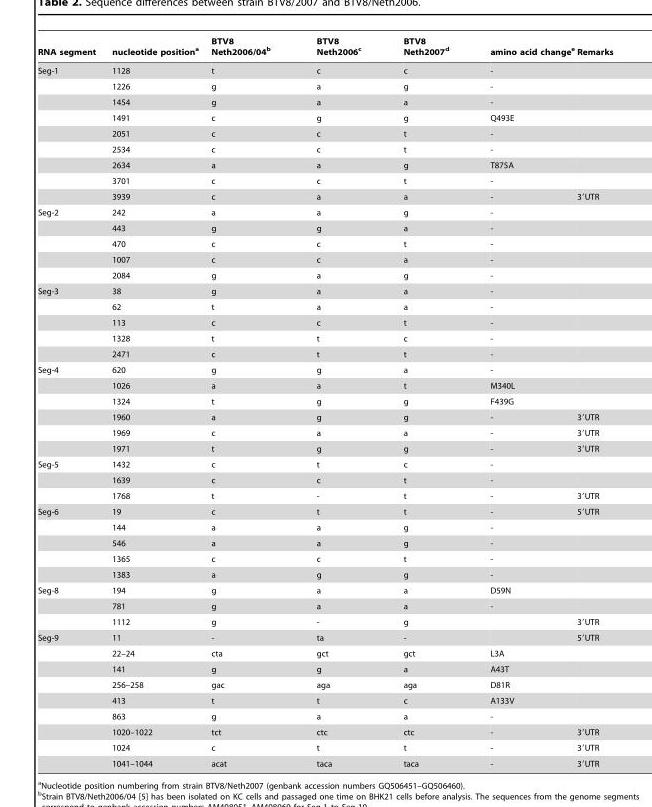table: (36, 36, 612, 767)
table column: (468, 36, 575, 767), (103, 36, 204, 767), (292, 36, 381, 767), (204, 36, 292, 767), (381, 36, 468, 767), (36, 36, 103, 767), (575, 36, 612, 767)
table column header: (36, 36, 612, 61)
table row: (36, 36, 612, 61), (36, 61, 612, 78), (36, 78, 612, 94), (36, 109, 612, 125), (36, 125, 612, 141), (36, 141, 612, 157), (36, 172, 612, 188), (36, 188, 612, 204), (36, 204, 612, 220), (36, 235, 612, 251), (36, 251, 612, 267), (36, 267, 612, 283), (36, 298, 612, 314), (36, 314, 612, 330), (36, 330, 612, 346), (36, 361, 612, 377), (36, 377, 612, 393), (36, 393, 612, 409), (36, 424, 612, 440), (36, 440, 612, 456), (36, 456, 612, 472), (36, 487, 612, 503), (36, 503, 612, 519), (36, 519, 612, 535), (36, 550, 612, 566), (36, 566, 612, 582), (36, 582, 612, 598), (36, 613, 612, 629), (36, 629, 612, 645), (36, 645, 612, 661), (36, 676, 612, 692), (36, 692, 612, 708), (36, 723, 612, 739), (36, 739, 612, 755), (36, 94, 612, 109), (36, 157, 612, 172), (36, 220, 612, 235), (36, 283, 612, 298), (36, 346, 612, 361), (36, 409, 612, 424), (36, 472, 612, 487), (36, 535, 612, 550), (36, 598, 612, 613), (36, 661, 612, 676), (36, 708, 612, 723), (36, 755, 612, 767)
table spanning cell: (36, 61, 103, 204), (36, 629, 103, 767), (36, 361, 103, 456), (36, 204, 103, 283), (36, 503, 103, 582), (36, 283, 103, 361), (36, 456, 103, 503), (36, 582, 103, 629)
